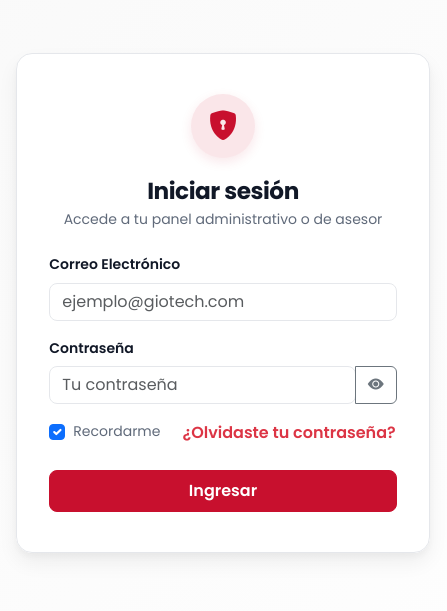
Login Component & Error Mapping › shows error if password reset is clicked without email
Click the button "¿Olvidaste tu contraseña?" at [289, 433], box [182,420,397,446]
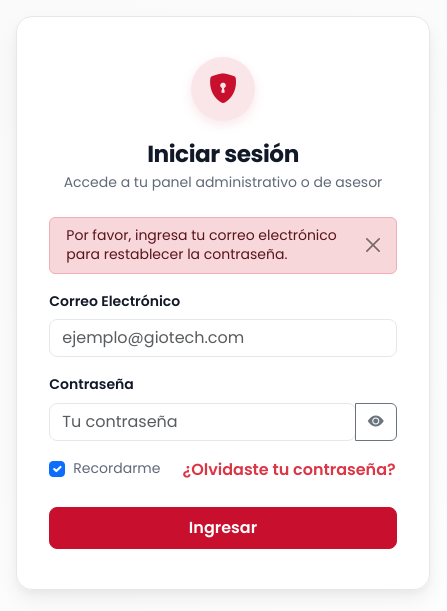
Check: the text "Por favor, ingresa tu correo electrónico para restablecer la contraseña." is shown, box [49,216,397,274]
